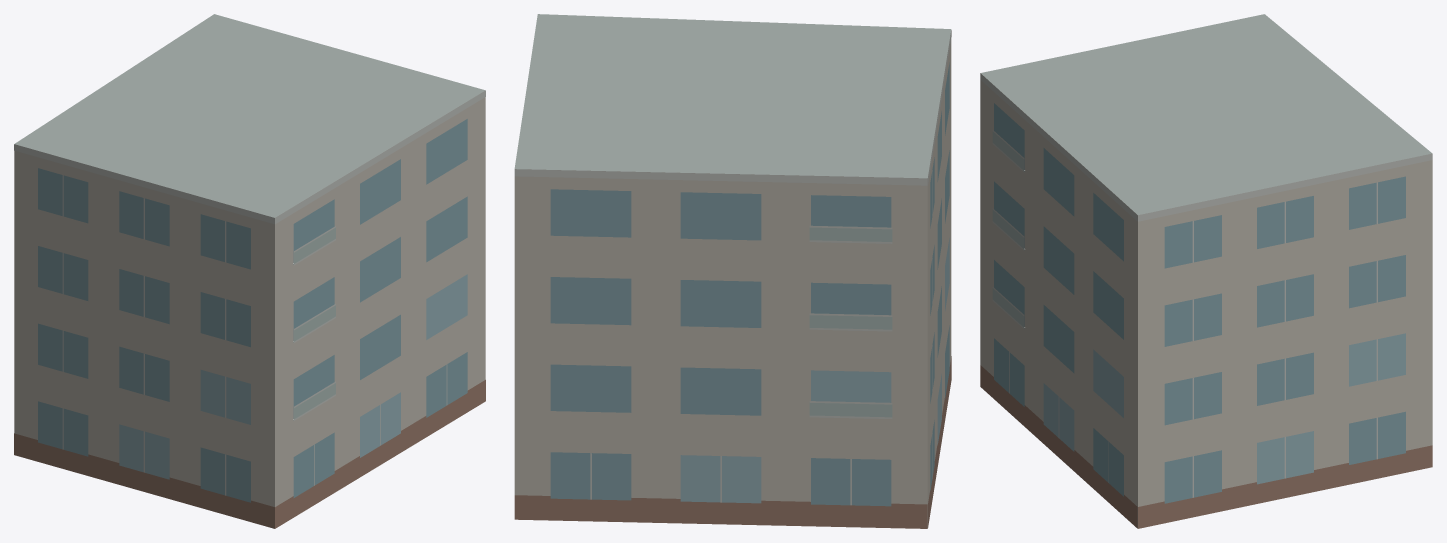
File: survey-upis-33040577.glb
3 renders of one model, left to right at view 1: azimuth 30°, elevation 25°; view 2: azimuth 150°, elevation 25°; view 3: azimuth 270°, elevation 25°, orthographic. The views are drawn at different scales.
Parts seen in each view (by area): view 1: survey-upis-33040577.tmp; view 2: survey-upis-33040577.tmp; view 3: survey-upis-33040577.tmp.
Part boxes in pixels (x1,y1,x2,y2): survey-upis-33040577.tmp: [14, 14, 485, 528]; survey-upis-33040577.tmp: [514, 14, 951, 528]; survey-upis-33040577.tmp: [980, 14, 1432, 528].
Size of the model in its own units: 16.11 by 11.7 by 15.3.
